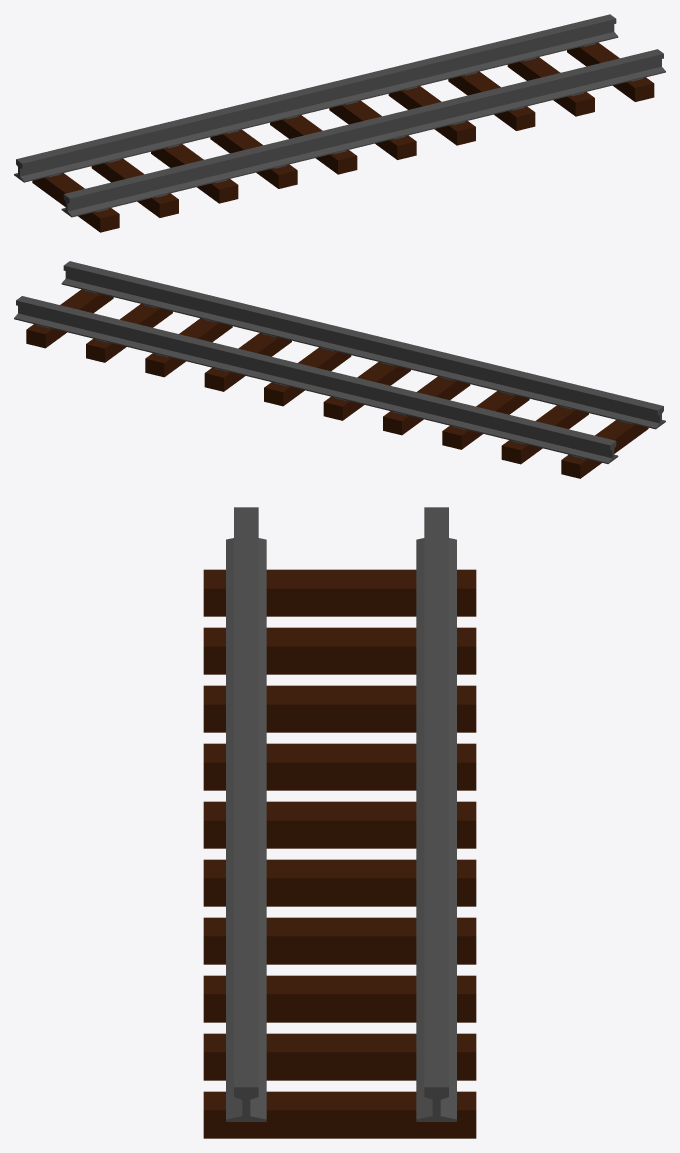
The model's file is RailroadTrackPart.obj.
The picture shows the model from 3 angles, top to bottom: view 1: azimuth 30°, elevation 25°; view 2: azimuth 150°, elevation 25°; view 3: azimuth 270°, elevation 25°; orthographic projection. The views are drawn at different scales.
Parts seen in each view (by area): view 1: Track_Part_Cube.002; view 2: Track_Part_Cube.002; view 3: Track_Part_Cube.002.
Boxes of the visible parts, x1,y1,x2,y2 form: Track_Part_Cube.002: (14,14,665,232); Track_Part_Cube.002: (14,261,665,478); Track_Part_Cube.002: (203,507,476,1138).
Bounding box in the file's own units: 62 × 3.4 × 12.32.
